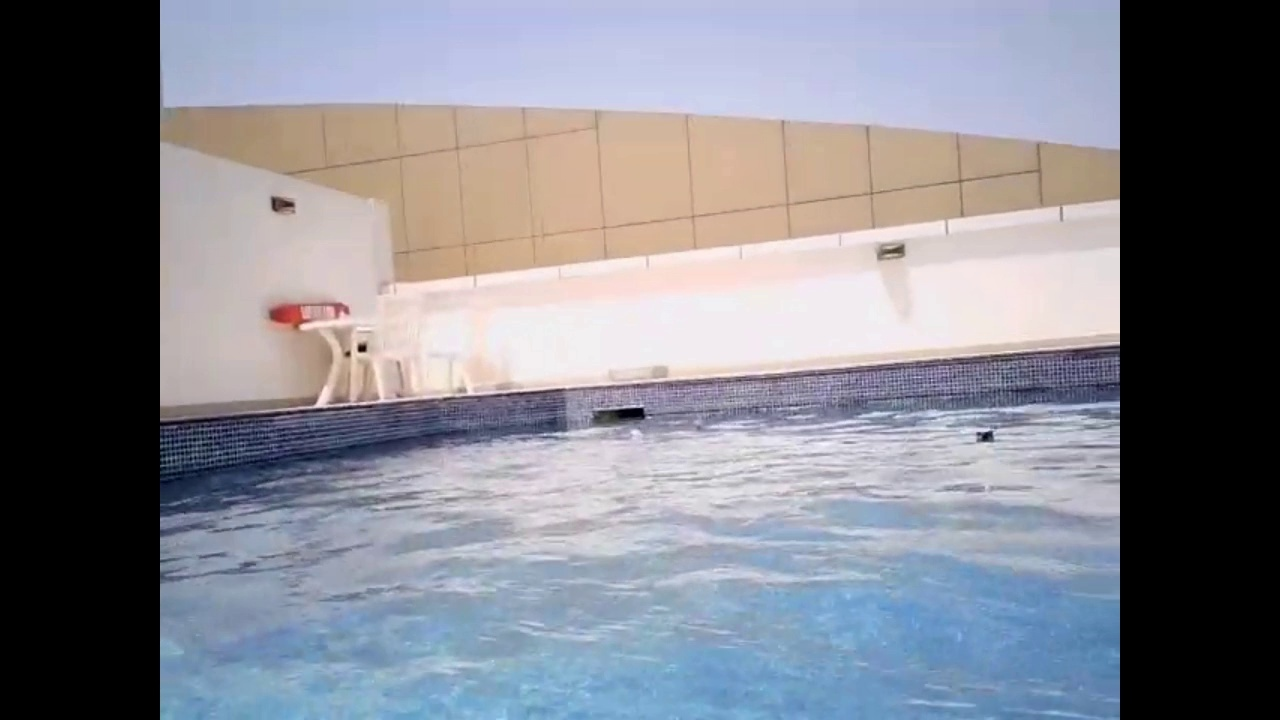debris: (970, 427, 998, 447), (628, 428, 643, 439)
